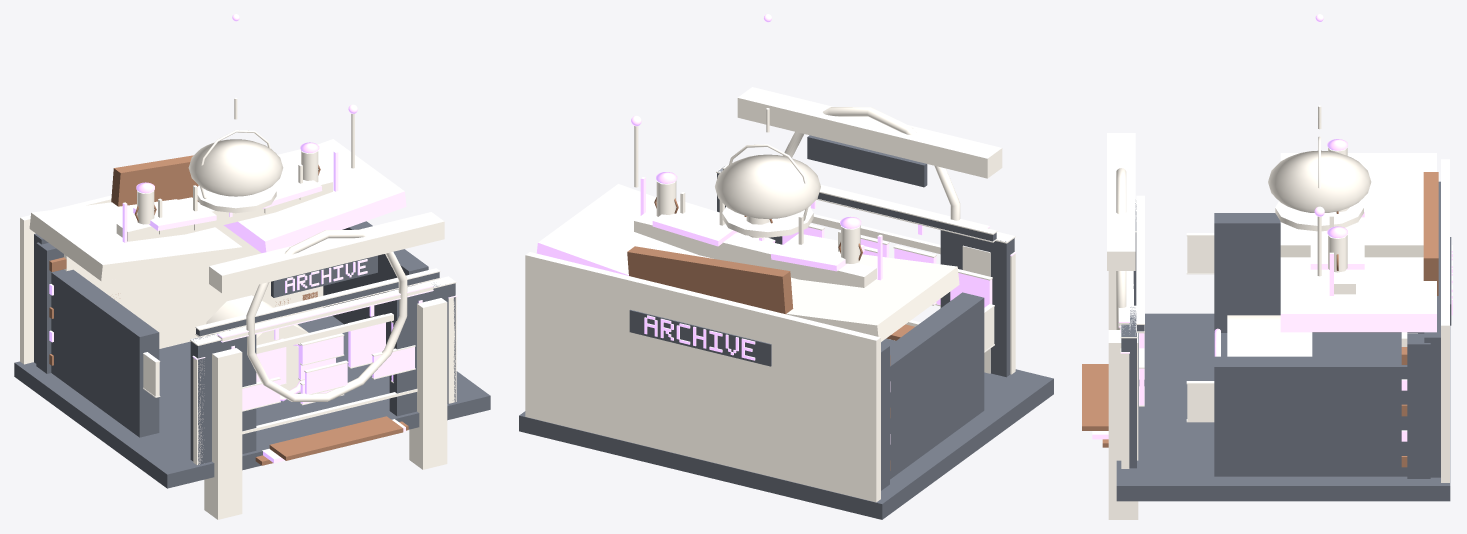
Rendered from archive.glb.
3 renders of one model, left to right at view 1: azimuth 30°, elevation 25°; view 2: azimuth 150°, elevation 25°; view 3: azimuth 270°, elevation 25°, orthographic. The views are drawn at different scales.
Parts seen in each view (by area): view 1: archive:near:surface:1, archive:near:surface:0, archive:near:surface:2, archive:far:surface:0, archive:near:surface:3, archive:city-identity:sealed-volume; view 2: archive:near:surface:1, archive:near:surface:0, archive:near:surface:2, archive:city-identity:sealed-volume; view 3: archive:near:surface:0, archive:near:surface:1, archive:near:surface:2, archive:near:surface:3, archive:city-identity:sealed-volume.
Boxes of the visible parts, <box> form: archive:near:surface:1: <box>20,97,456,519</box>; archive:near:surface:0: <box>14,201,490,488</box>; archive:near:surface:2: <box>49,14,457,463</box>; archive:far:surface:0: <box>64,225,323,348</box>; archive:near:surface:3: <box>49,165,408,465</box>; archive:city-identity:sealed-volume: <box>111,155,198,206</box>; archive:near:surface:1: <box>525,87,1015,502</box>; archive:near:surface:0: <box>519,135,1053,519</box>; archive:near:surface:2: <box>536,14,1016,444</box>; archive:city-identity:sealed-volume: <box>627,246,793,314</box>; archive:near:surface:0: <box>1116,181,1451,501</box>; archive:near:surface:1: <box>1107,105,1449,519</box>; archive:near:surface:2: <box>1092,14,1452,441</box>; archive:near:surface:3: <box>1082,211,1407,467</box>; archive:city-identity:sealed-volume: <box>1423,172,1438,295</box>.
Size of the model in its own units: 14.9 by 17.92 by 13.55.
